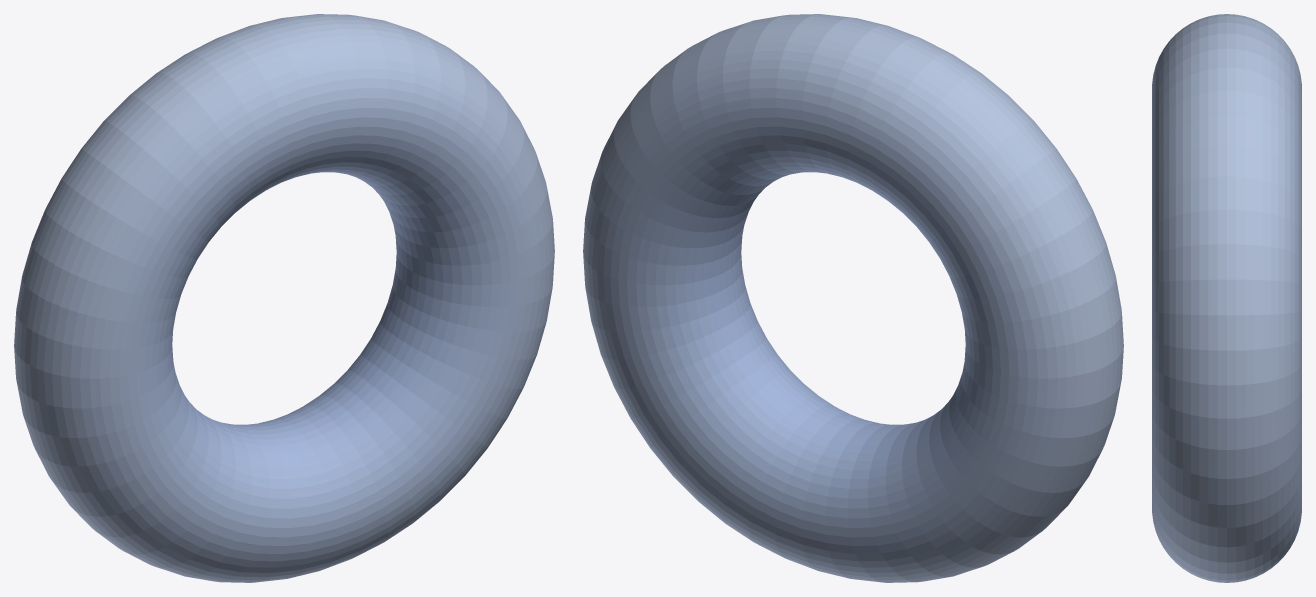
The picture shows the model from 3 angles, left to right: view 1: azimuth 30°, elevation 25°; view 2: azimuth 150°, elevation 25°; view 3: azimuth 270°, elevation 25°; orthographic projection. The views are drawn at different scales.
Visible parts, largest first — view 1: world; view 2: world; view 3: world.
Part boxes in pixels (box(x1,y1,x2,y2)): world: box(14, 14, 554, 582); world: box(583, 14, 1123, 582); world: box(1152, 14, 1301, 582).
Size of the model in its own units: 21.73 by 21.69 by 5.72.
